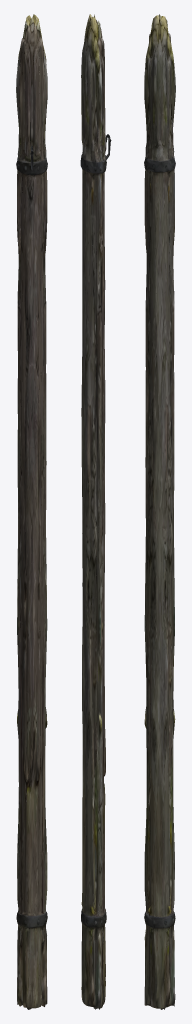
File: stile_post.obj
3 renders of one model, left to right at view 1: azimuth 90°, elevation 25°; view 2: azimuth 210°, elevation 25°; view 3: azimuth 270°, elevation 25°, orthographic.
Parts seen in each view (by area): view 1: stile_post; view 2: stile_post; view 3: stile_post.
Part boxes in pixels (box(x1,y1,x2,y2)): stile_post: box(16, 14, 47, 1009); stile_post: box(80, 14, 111, 1009); stile_post: box(144, 14, 175, 1009).
Bounding box in the file's own units: 0.1 × 3.44 × 0.1.
Materials: 1 (1 with a texture image).
